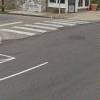Crosswalk: (0, 16, 73, 38)
